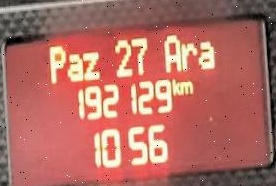0: (100, 126, 121, 168)
1: (127, 80, 138, 118), (91, 126, 100, 167), (75, 82, 84, 119)
2: (114, 37, 131, 77), (103, 80, 120, 118), (138, 78, 152, 113)
5: (127, 123, 148, 166)
6: (146, 122, 169, 163)
7: (131, 35, 148, 73)
9: (153, 78, 171, 113), (84, 84, 101, 119)
X: (47, 40, 66, 84), (162, 32, 181, 70), (179, 39, 197, 71), (197, 38, 214, 70), (83, 49, 100, 81), (67, 51, 83, 82), (170, 75, 181, 95), (180, 79, 193, 95)
